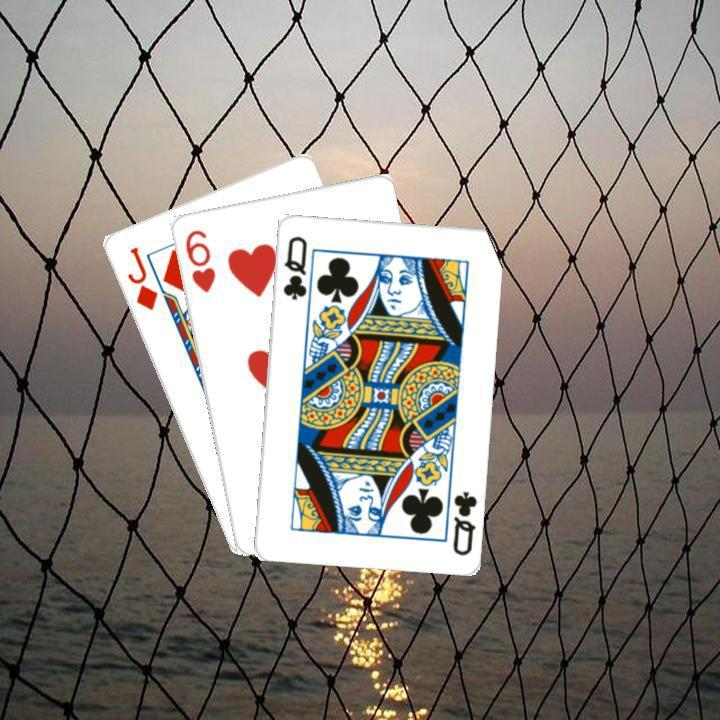6: (180, 225, 217, 294)
J: (122, 242, 160, 313)
Q: (448, 486, 479, 557), (278, 231, 308, 302)
